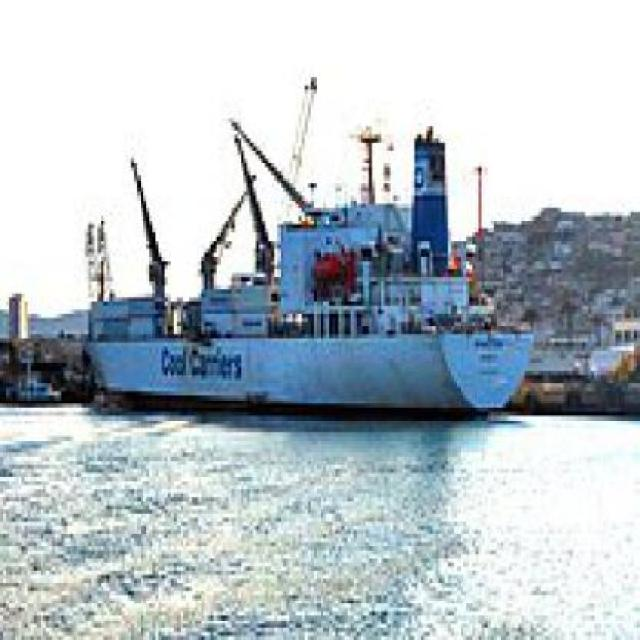container: (50, 74, 550, 430)
